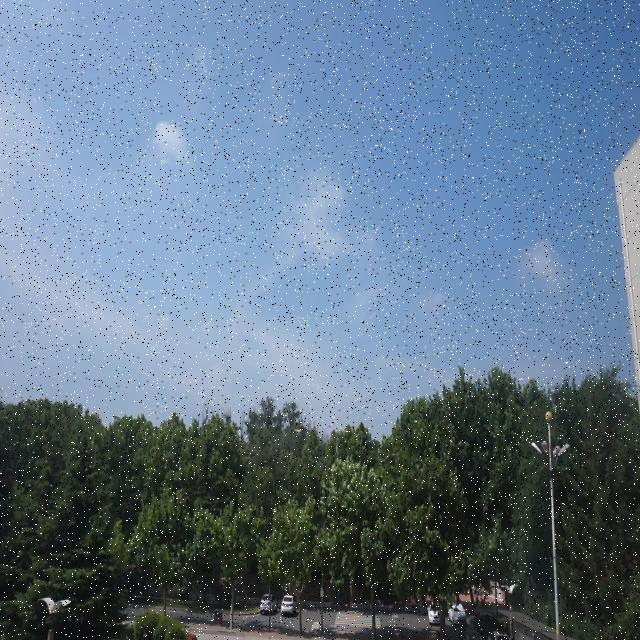UAV: (294, 429, 302, 435)
